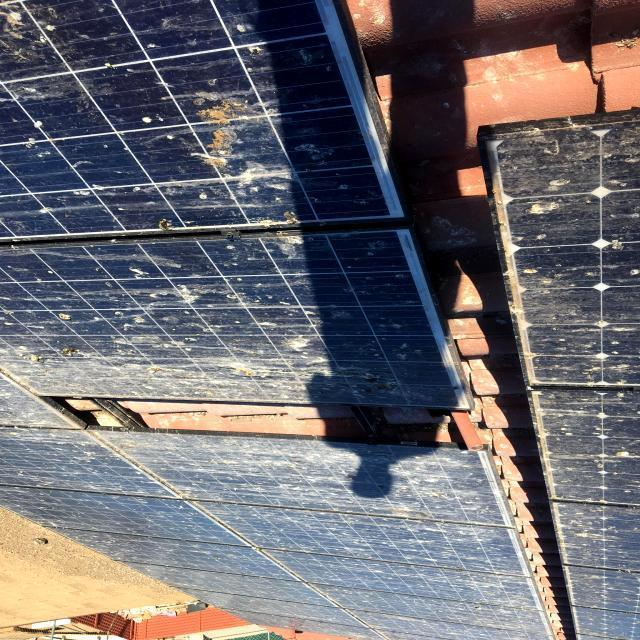soiled: (1, 9, 462, 425), (1, 431, 535, 639), (463, 112, 640, 638)
